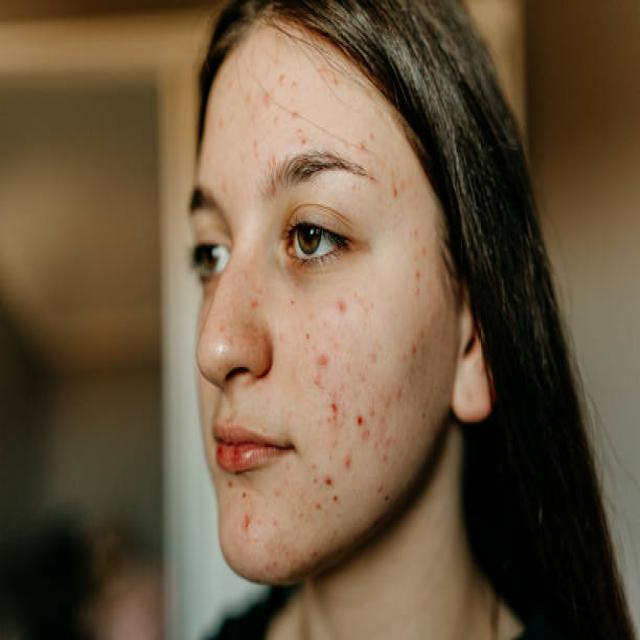Eczema: (296, 333, 438, 523), (352, 134, 432, 324), (230, 56, 320, 161), (309, 318, 311, 321)
